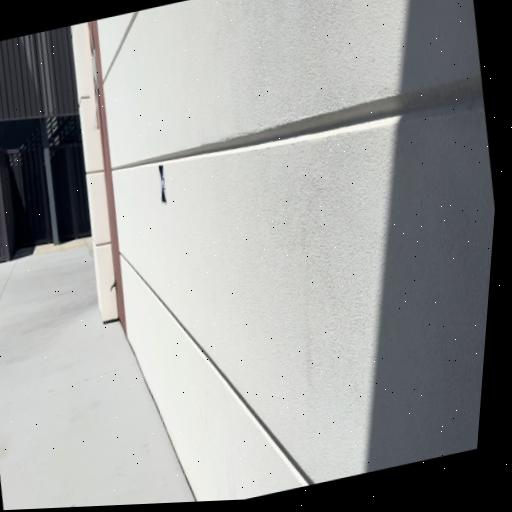target7: (158, 164, 167, 203)
